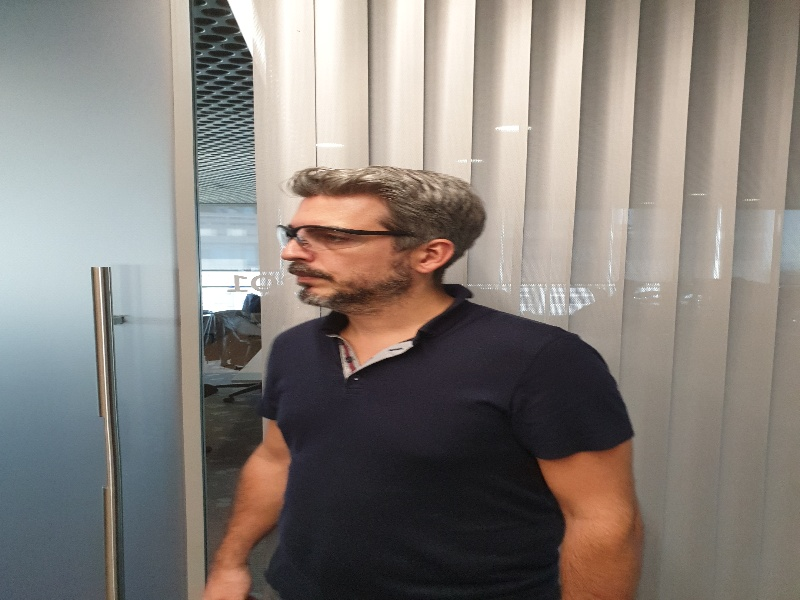Gozluk: (275, 224, 414, 252)
